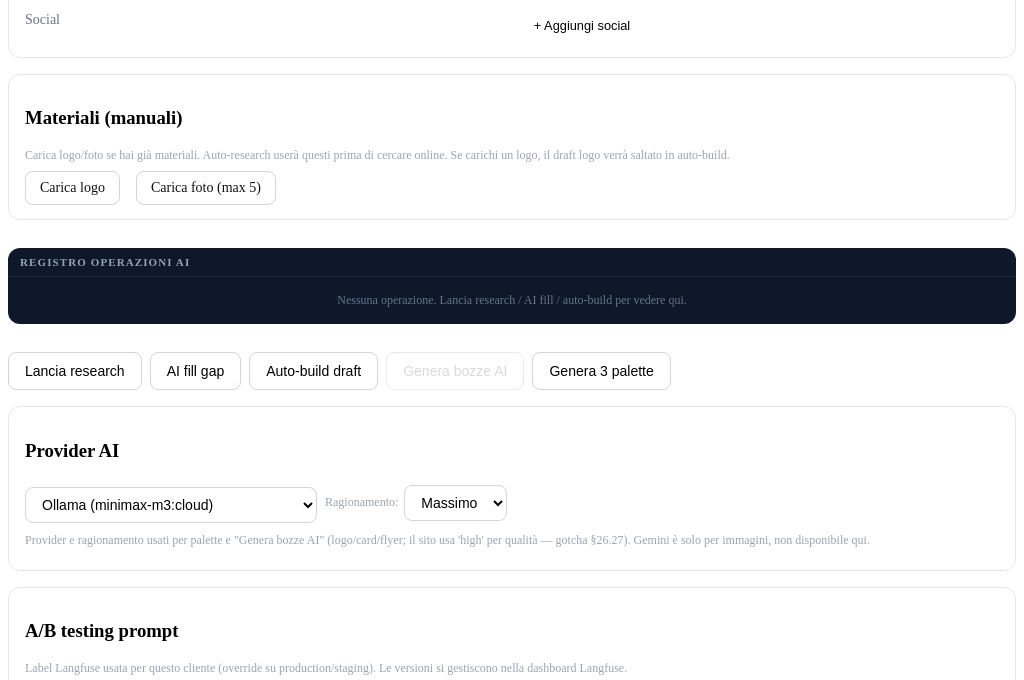
Test case: TB-027 CustomerDetail › log espandibile: click riga mostra detail JSON
(page scrolled)
Step 1. Click the button with test id "crm-research-btn" → (75, 371), box [8,352,142,390]
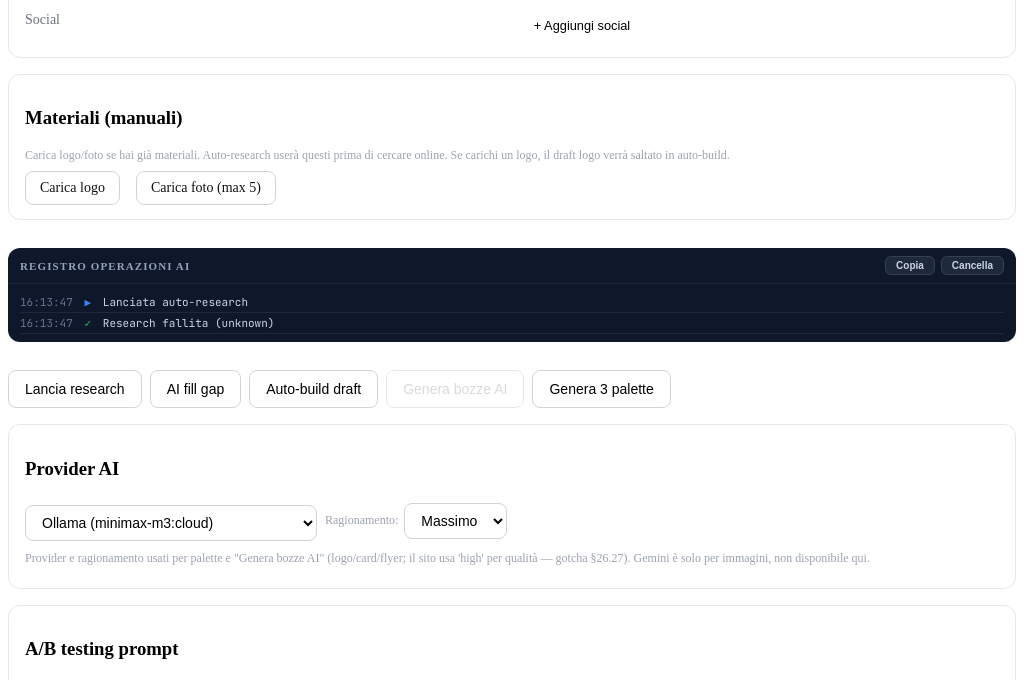
Expected: the text "Lanciata auto-research" is shown, [103,295,248,309]
Step 2. Click the text "16:13:47 ▶ Lanciata auto-research" → (512, 303), box [20,292,1004,313]
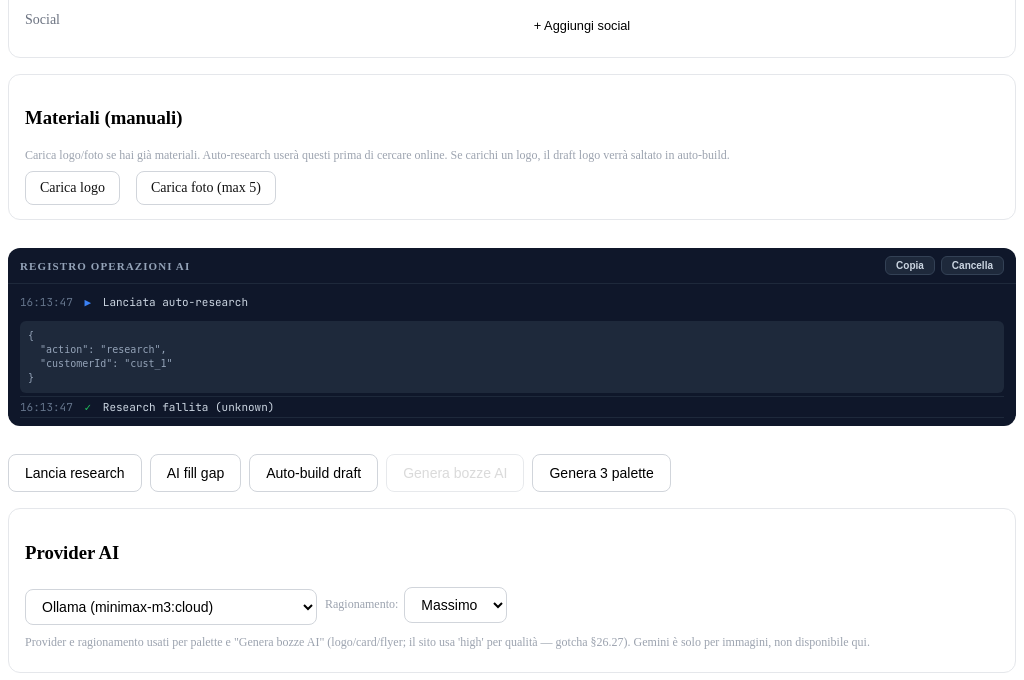
Expected: the text "{ \"action\": \"research\", \"customerId\": \"cust_1\" }" is shown, [20,321,1004,393]
